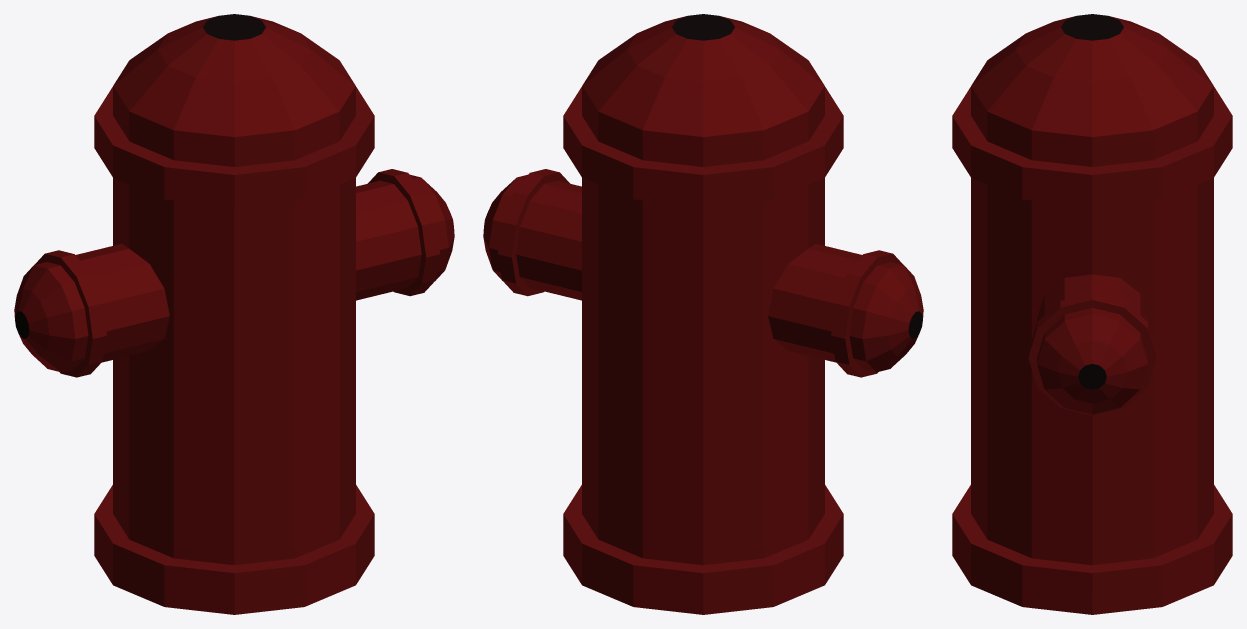
Rendered from SM_hydrant.FBX.
3 views of the same model, side by side, from view 1: azimuth 30°, elevation 25°; view 2: azimuth 150°, elevation 25°; view 3: azimuth 270°, elevation 25° (orthographic).
Parts seen in each view (by area): view 1: hydrant; view 2: hydrant; view 3: hydrant.
Part boxes in pixels (x1,y1,x2,y2): hydrant: (14,14,454,614); hydrant: (483,14,923,614); hydrant: (952,14,1232,614).
Size of the model in its own units: 60.61 by 72.06 by 34.66.
